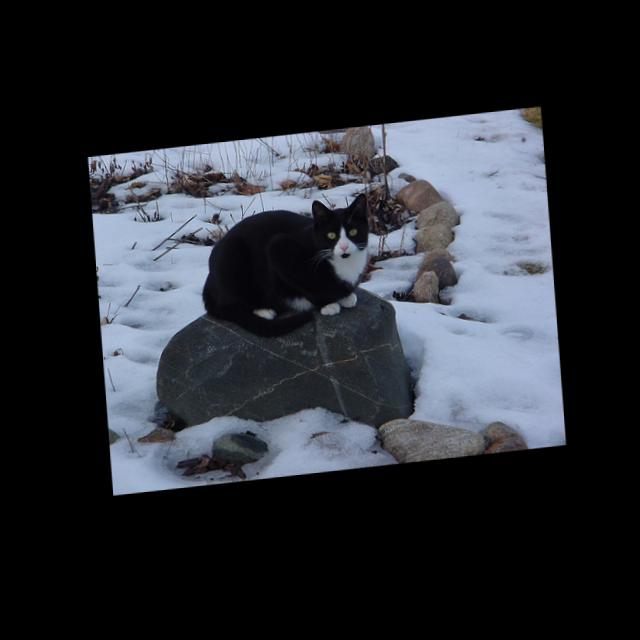animals: (312, 197, 367, 257)
